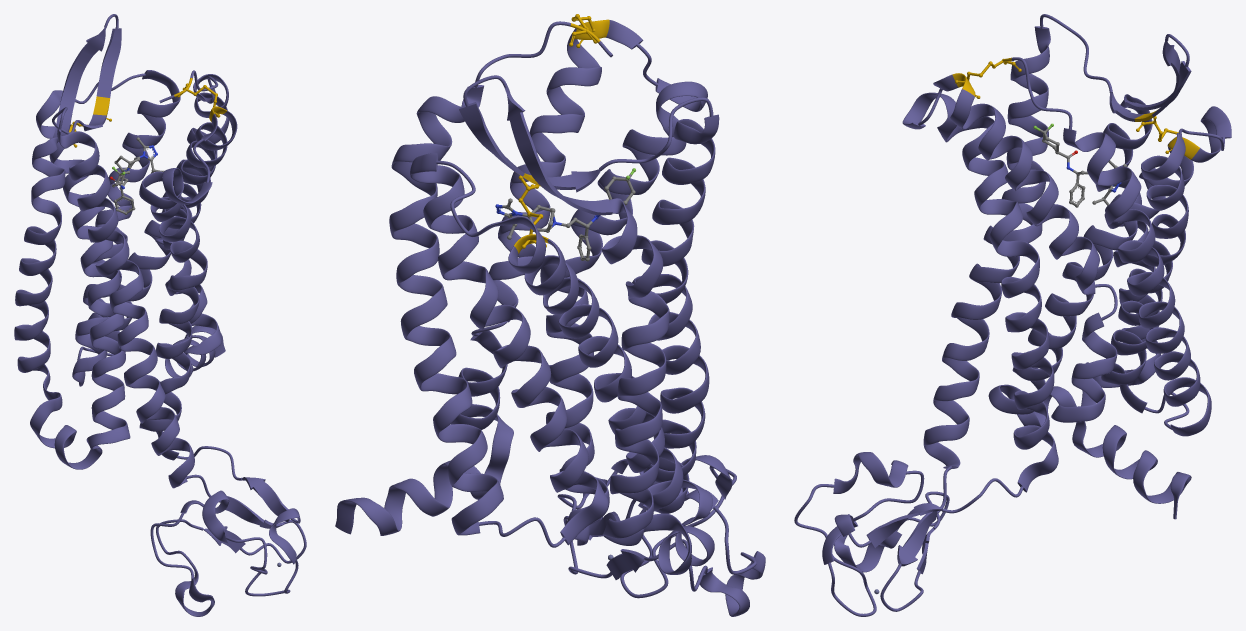
Rendered from 4MBS.glb.
3 renders of one model, left to right at view 1: azimuth 30°, elevation 25°; view 2: azimuth 150°, elevation 25°; view 3: azimuth 270°, elevation 25°, orthographic. The views are drawn at different scales.
Parts seen in each view (by area): view 1: Mesh_0; view 2: Mesh_0; view 3: Mesh_0.
Boxes of the visible parts, x1,y1,x2,y2 form: Mesh_0: (14, 14, 306, 616); Mesh_0: (335, 14, 765, 616); Mesh_0: (794, 14, 1231, 616).
Size of the model in its own units: 0.3101 by 0.6305 by 0.4427.
